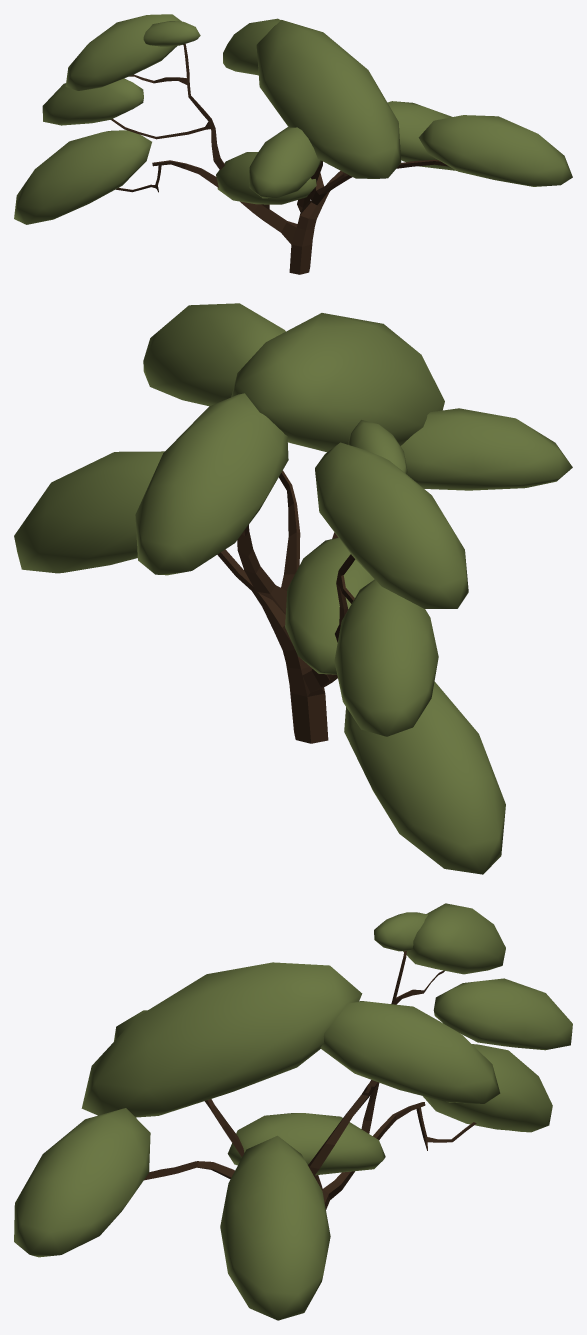
The model's file is BigTamarask.glb.
3 renders of one model, top to bottom at view 1: azimuth 30°, elevation 25°; view 2: azimuth 150°, elevation 25°; view 3: azimuth 270°, elevation 25°, orthographic. The views are drawn at different scales.
Visible parts, largest first — view 1: Leaves2.006, Leaves2.003, Leaves2.001, SM_BigTamarisk, Leaves2.005, Leaves2.002, Leaves2.004, Leaves2, Leaves2.009, Leaves2.007, Leaves2.008; view 2: Leaves2.006, Leaves2.007, Leaves2.003, Leaves2.005, Leaves2.004, Leaves2, Leaves2.002, Leaves2.001, SM_BigTamarisk, Leaves2.009, Leaves2.008; view 3: Leaves2.006, Leaves2, Leaves2.001, Leaves2.007, Leaves2.004, Leaves2.009, Leaves2.003, Leaves2.005, SM_BigTamarisk, Leaves2.008.
Part boxes in pixels (x1,y1,x2,y2): Leaves2.006: (256,20,401,178); Leaves2.003: (14,130,151,224); Leaves2.001: (418,115,572,186); SM_BigTamarisk: (111,44,448,274); Leaves2.005: (65,14,181,90); Leaves2.002: (249,126,321,198); Leaves2.004: (42,78,143,125); Leaves2: (387,101,456,170); Leaves2.009: (216,152,316,204); Leaves2.007: (223,18,280,75); Leaves2.008: (143,21,200,46); Leaves2.006: (231,313,444,452); Leaves2.007: (135,393,288,575); Leaves2.003: (344,681,505,874); Leaves2.005: (315,442,468,608); Leaves2.004: (334,579,438,736); Leaves2: (14,451,164,573); Leaves2.002: (400,408,572,490); Leaves2.001: (143,303,285,406); SM_BigTamarisk: (217,470,355,743); Leaves2.009: (285,537,374,674); Leaves2.008: (348,420,407,473); Leaves2.006: (81,962,362,1117); Leaves2: (220,1135,330,1320); Leaves2.001: (14,1108,150,1257); Leaves2.007: (320,1001,500,1103); Leaves2.004: (433,978,572,1050); Leaves2.009: (227,1113,385,1175); Leaves2.003: (423,1044,552,1132); Leaves2.005: (403,903,505,974); SM_BigTamarisk: (144,951,476,1209); Leaves2.008: (374,912,427,951).
Size of the model in its own units: 11.23 by 6.85 by 10.48.
